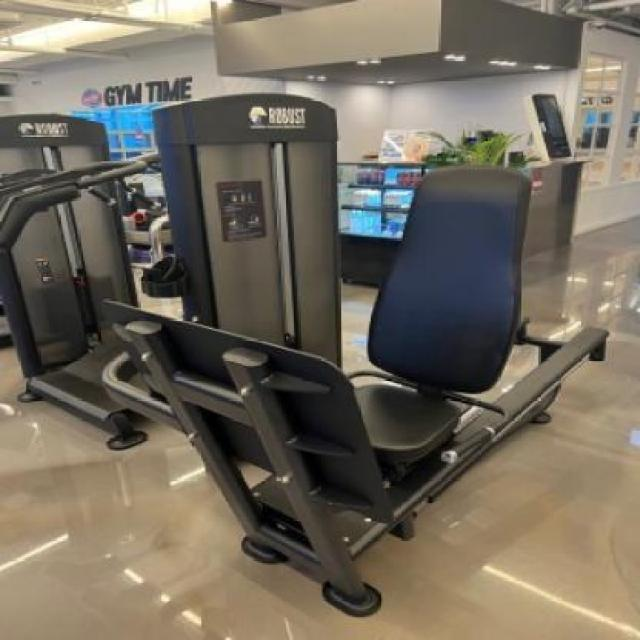leg press: (58, 84, 640, 634)
